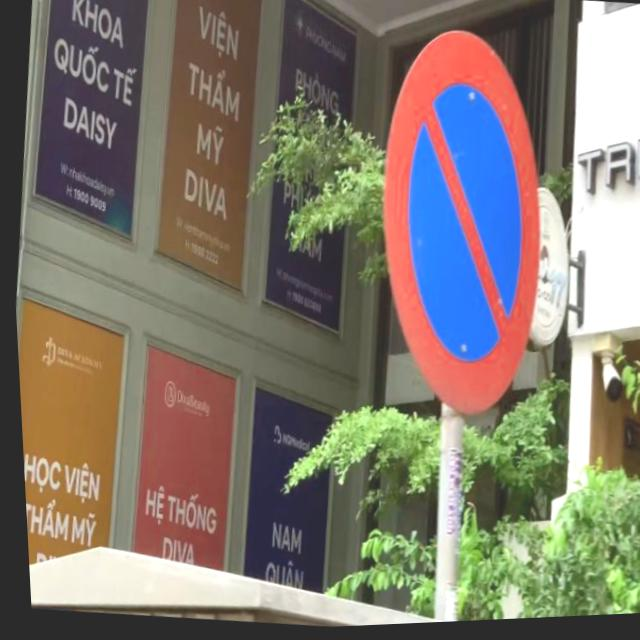Cam do xe: (351, 21, 567, 430)
